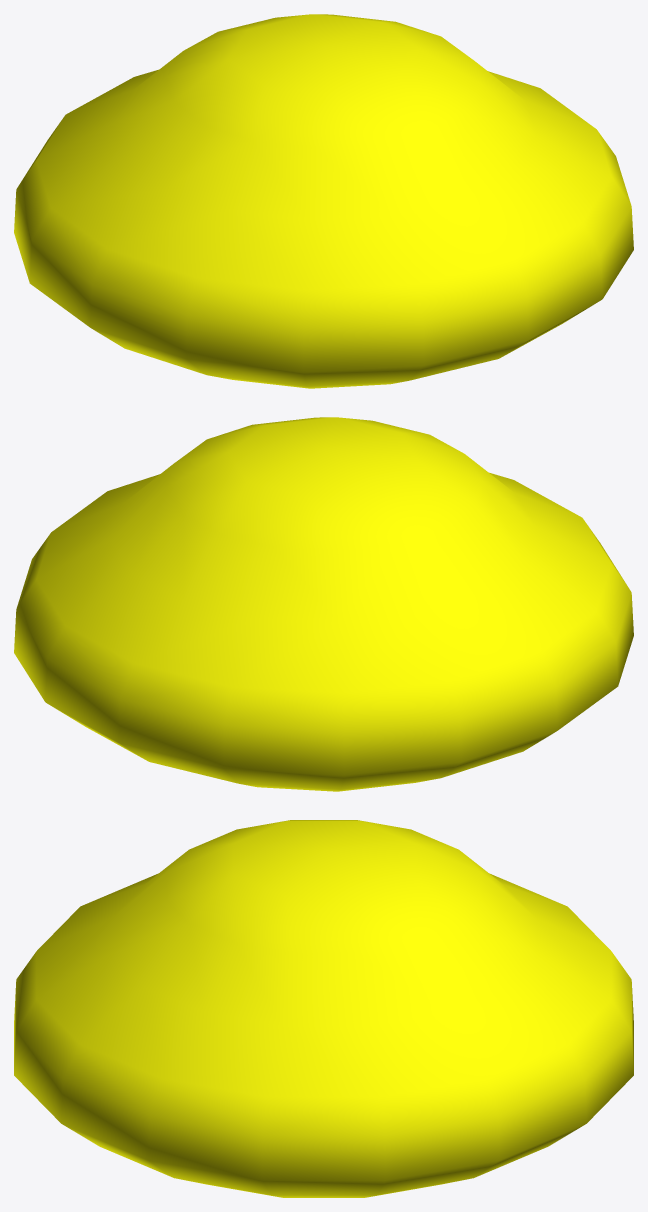
File: kaykit-bush-3-b-color-1.glb
3 views of the same model, one above another, from view 1: azimuth 30°, elevation 25°; view 2: azimuth 150°, elevation 25°; view 3: azimuth 270°, elevation 25° (orthographic).
Parts seen in each view (by area): view 1: Bush_3_B_Color1; view 2: Bush_3_B_Color1; view 3: Bush_3_B_Color1.
Part boxes in pixels (x1,y1,x2,y2): Bush_3_B_Color1: (14,14,633,388); Bush_3_B_Color1: (14,417,633,791); Bush_3_B_Color1: (14,820,633,1197).
Bounding box in the file's own units: 1.68 × 0.8035 × 1.68.
